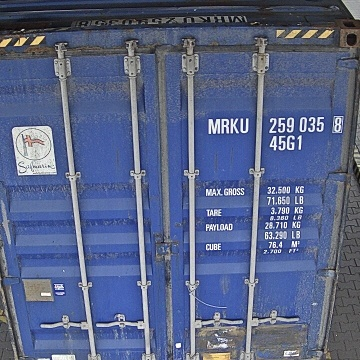serial_id: (209, 116, 343, 133)
